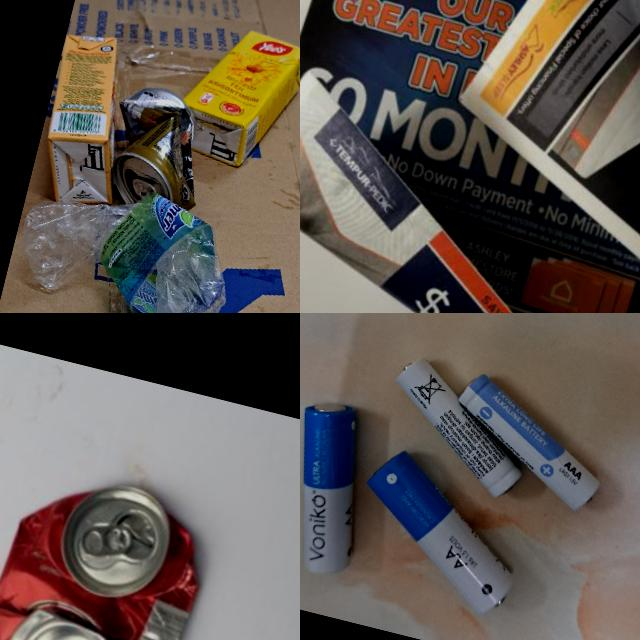aba de lata: (78, 515, 138, 563), (130, 177, 160, 200)
bateria: (342, 443, 538, 619), (437, 369, 619, 514), (374, 351, 544, 504), (300, 394, 388, 582)
caixinha: (26, 27, 152, 214), (170, 19, 300, 179)
garrafa plástica: (3, 165, 246, 313)
lata: (0, 456, 222, 640), (97, 81, 222, 219)
papel: (300, 0, 640, 313)
papelão: (0, 0, 300, 313)
